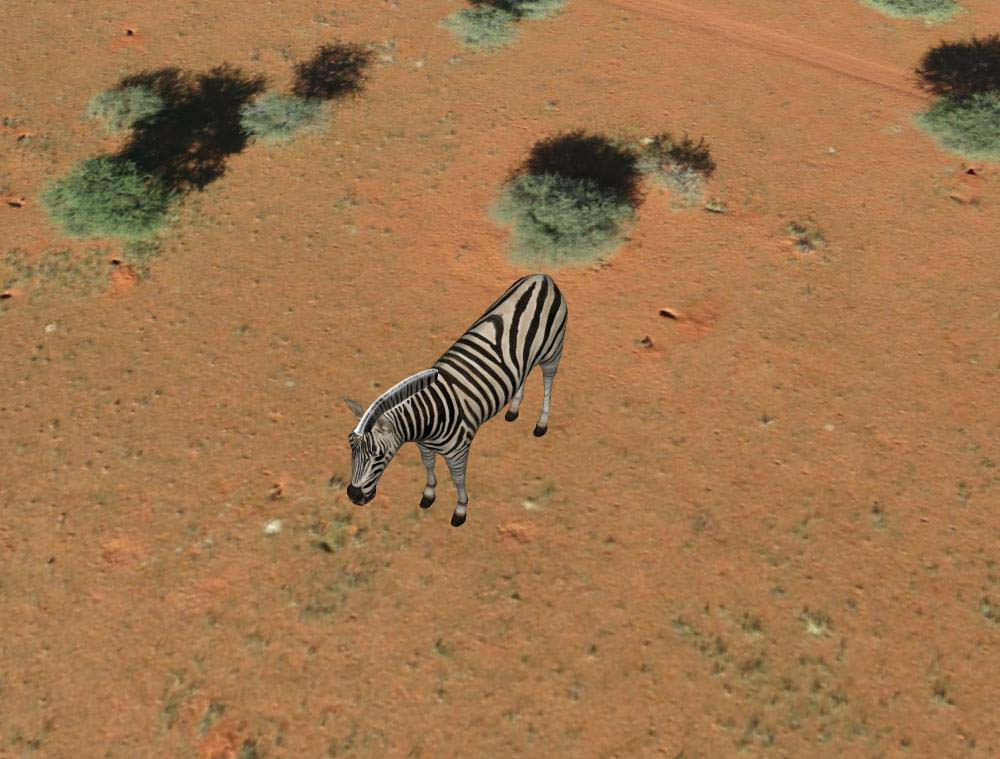zebra: (345, 269, 575, 532)
